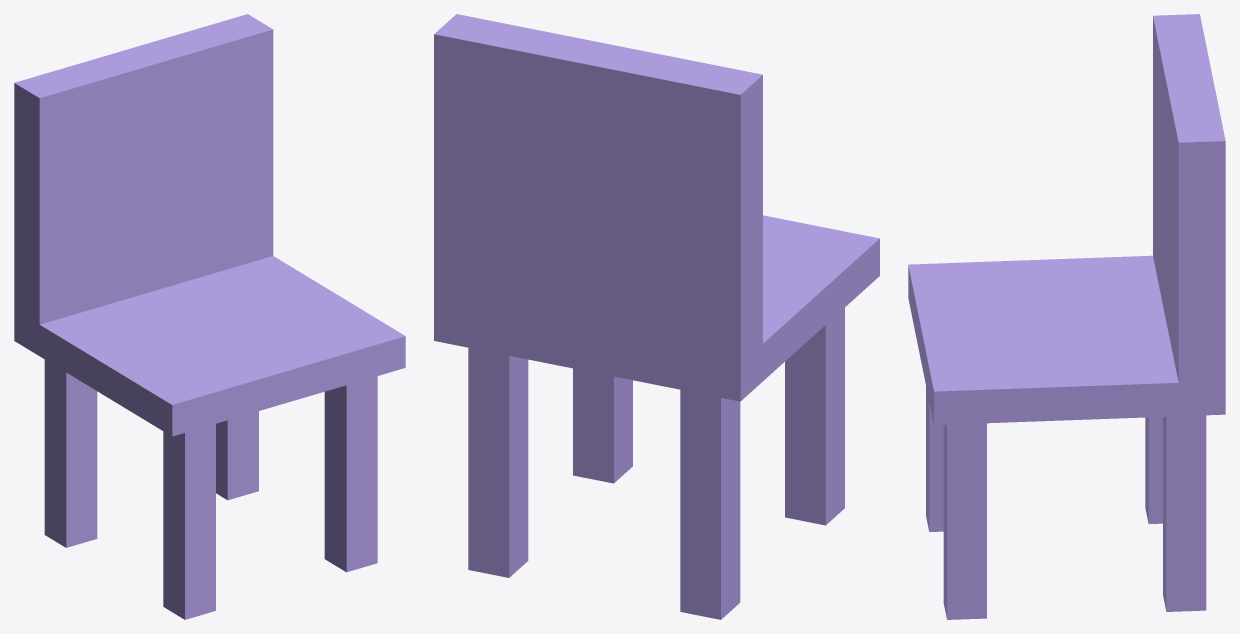
3 renders of one model, left to right at view 1: azimuth 30°, elevation 25°; view 2: azimuth 150°, elevation 25°; view 3: azimuth 270°, elevation 25°, orthographic. The views are drawn at different scales.
Visible parts, largest first — view 1: Oj5_2; view 2: Oj5_2; view 3: Oj5_2.
Part boxes in pixels (x1,y1,x2,y2): Oj5_2: (14,14,405,619); Oj5_2: (434,14,879,619); Oj5_2: (908,14,1225,619).
Size of the model in its own units: 0.7237 by 1.18 by 0.7052.
1 material, 1 textured.
